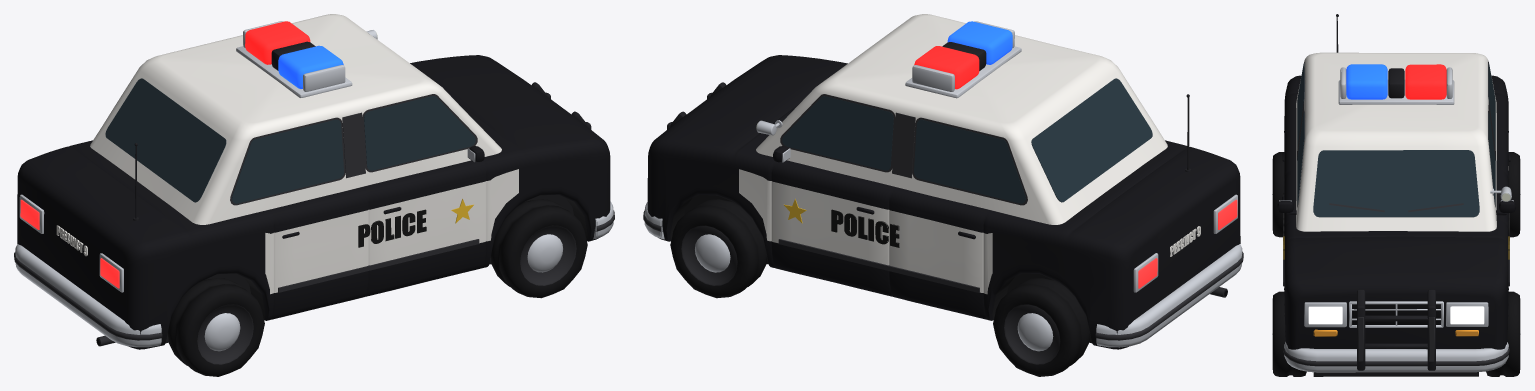
Rendered from cop_car.glb.
The picture shows the model from 3 angles, left to right: view 1: azimuth 30°, elevation 25°; view 2: azimuth 150°, elevation 25°; view 3: azimuth 270°, elevation 25°; orthographic projection. The views are drawn at different scales.
Parts seen in each view (by area): view 1: Body, WheelRR_Tire, WheelFR_Tire, LightRed, LightBlue; view 2: Body, WheelRL_Tire, WheelFL_Tire, LightBlue, LightRed; view 3: Body, LightBlue, LightRed, Headlights, WheelFR_Tire, WheelFL_Tire, WheelRR_Tire, WheelRL_Tire.
Boxes of the visible parts, left/top/right/bottom form: Body: left=14, top=14, right=614, bottom=349; WheelRR_Tire: left=168, top=278, right=264, bottom=376; WheelFR_Tire: left=491, top=199, right=587, bottom=298; LightRed: left=245, top=21, right=310, bottom=64; LightBlue: left=278, top=45, right=343, bottom=88; Body: left=643, top=14, right=1243, bottom=349; WheelRL_Tire: left=993, top=278, right=1089, bottom=376; WheelFL_Tire: left=670, top=199, right=766, bottom=298; LightBlue: left=947, top=21, right=1012, bottom=64; LightRed: left=914, top=46, right=979, bottom=89; Body: left=1277, top=14, right=1515, bottom=376; LightBlue: left=1346, top=64, right=1387, bottom=99; LightRed: left=1405, top=64, right=1446, bottom=99; Headlights: left=1308, top=306, right=1484, bottom=324; WheelFR_Tire: left=1272, top=291, right=1306, bottom=376; WheelFL_Tire: left=1486, top=291, right=1520, bottom=376; WheelRR_Tire: left=1272, top=152, right=1284, bottom=237; WheelRL_Tire: left=1508, top=152, right=1520, bottom=237.
Size of the model in its own units: 4.39 by 2.06 by 2.1.
